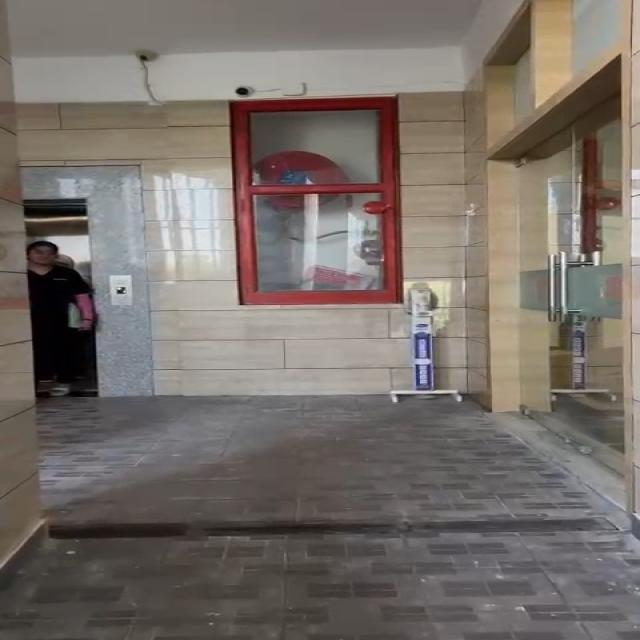floor: (0, 399, 639, 640)
moving_object: (1, 234, 125, 376)
wall: (379, 64, 640, 380), (134, 99, 255, 392)
